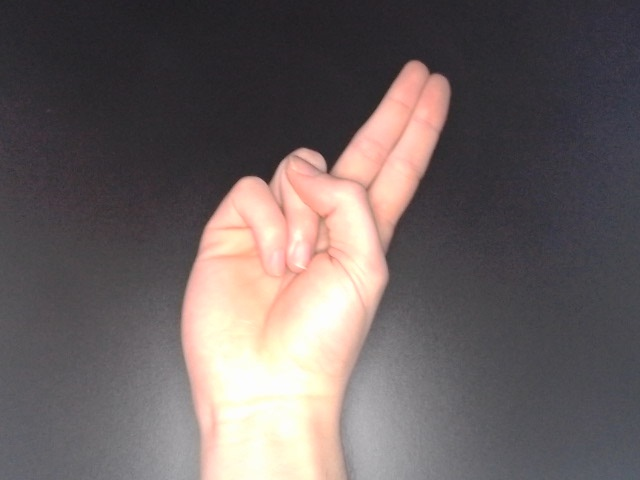u: (169, 53, 457, 447)
